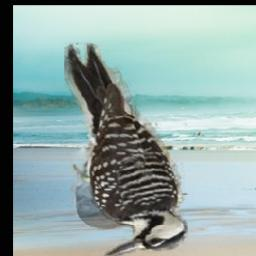Woodpecker: (63, 42, 187, 256)
